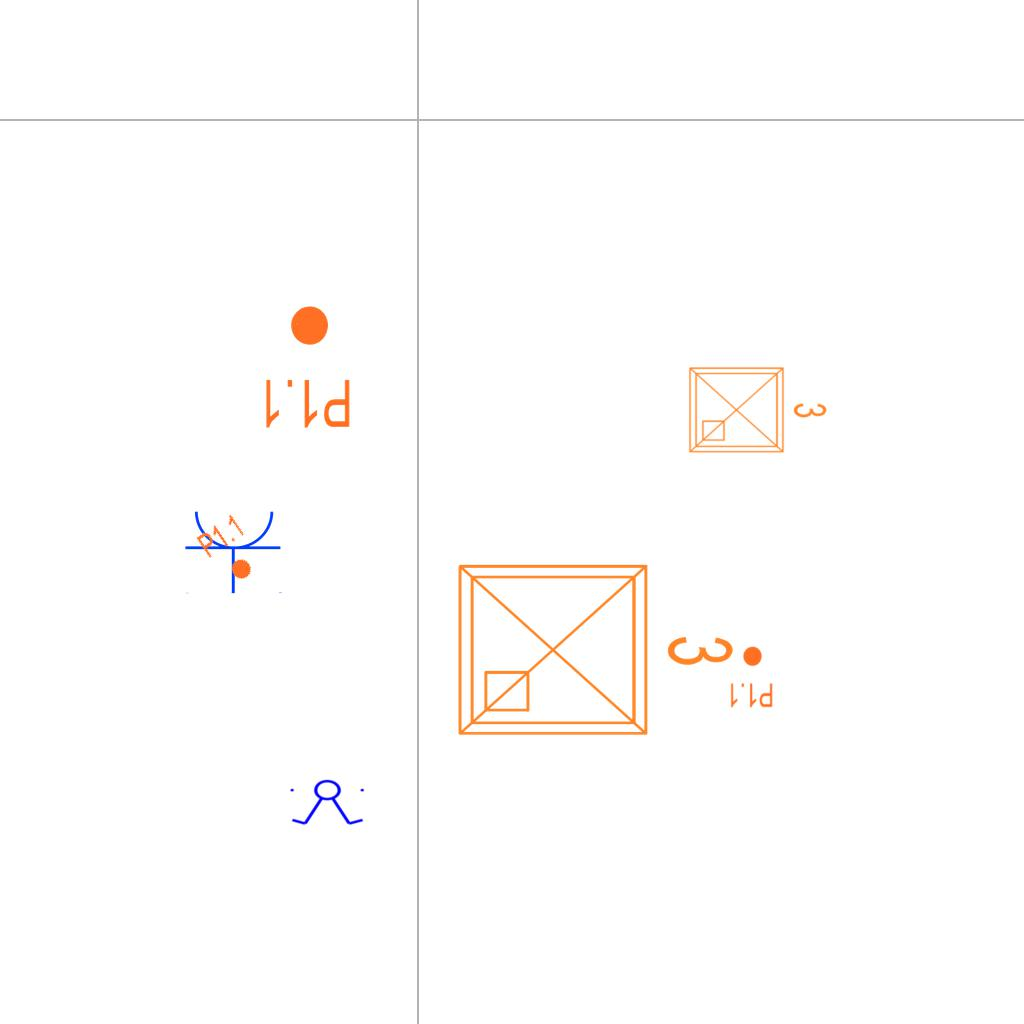Downlight_LED_Einbauleuchten_Flur: (260, 303, 353, 431), (194, 511, 268, 591), (728, 645, 774, 709)
Einbaudownlights_LED_Konferenzraeume: (444, 542, 744, 750), (682, 356, 832, 460)
Schukosteckdose_einfach: (184, 507, 284, 594)
Serienschalter: (286, 779, 370, 827)
